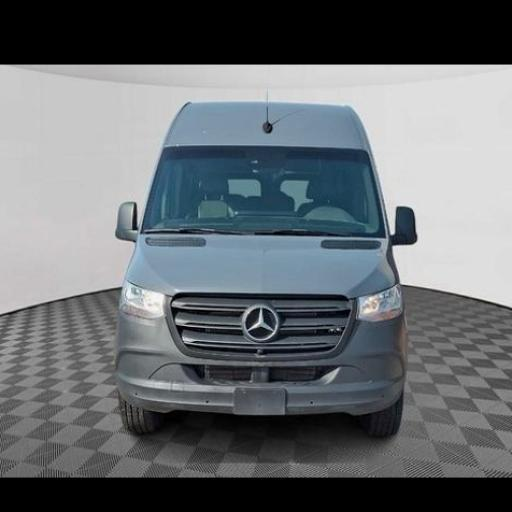van: (116, 102, 413, 435)
